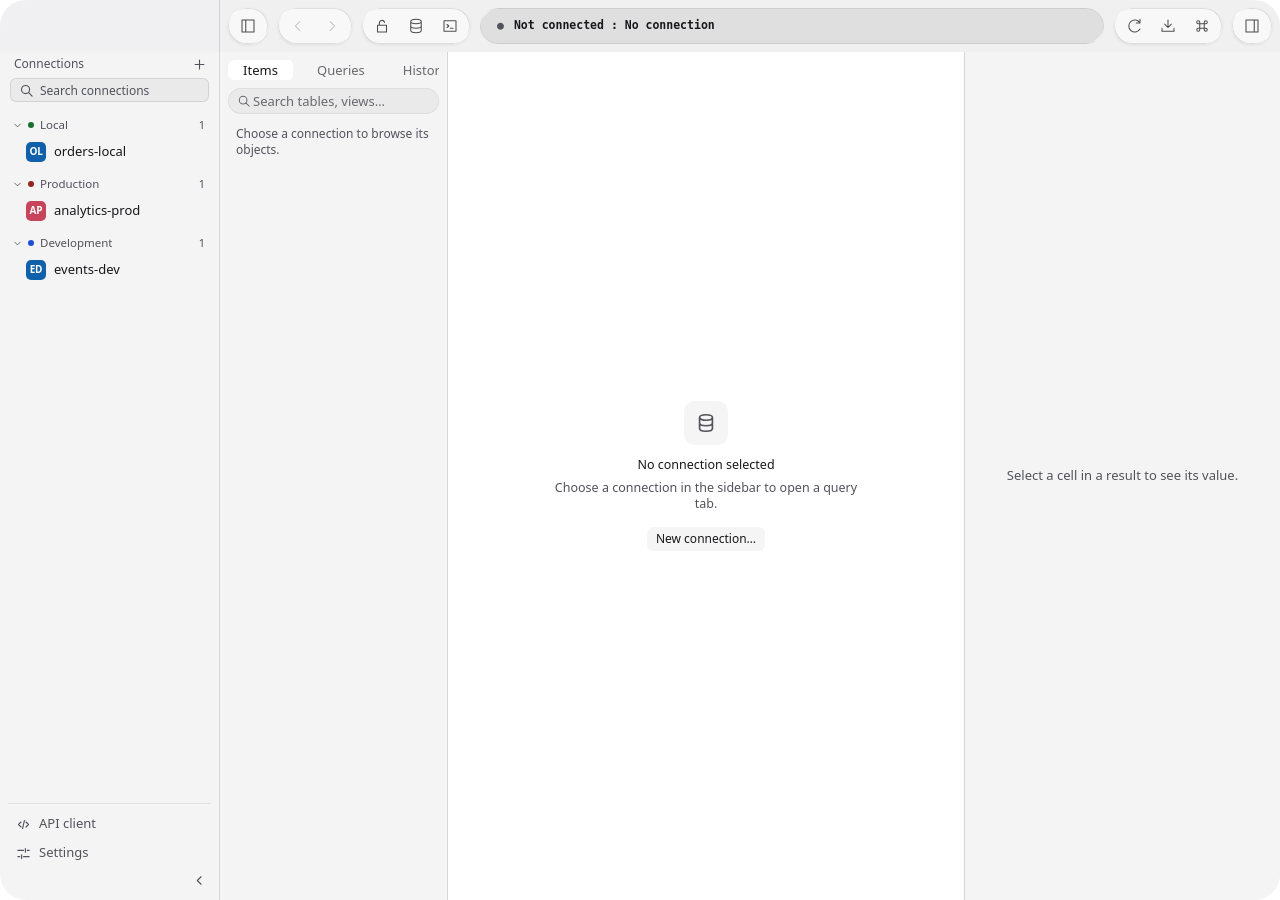
Scenario: moves focus to the table row when its chevron collapses a focused column
Click the button with aria-label "Switch to orders-local": coordinates (118, 152) [26, 138, 211, 166]
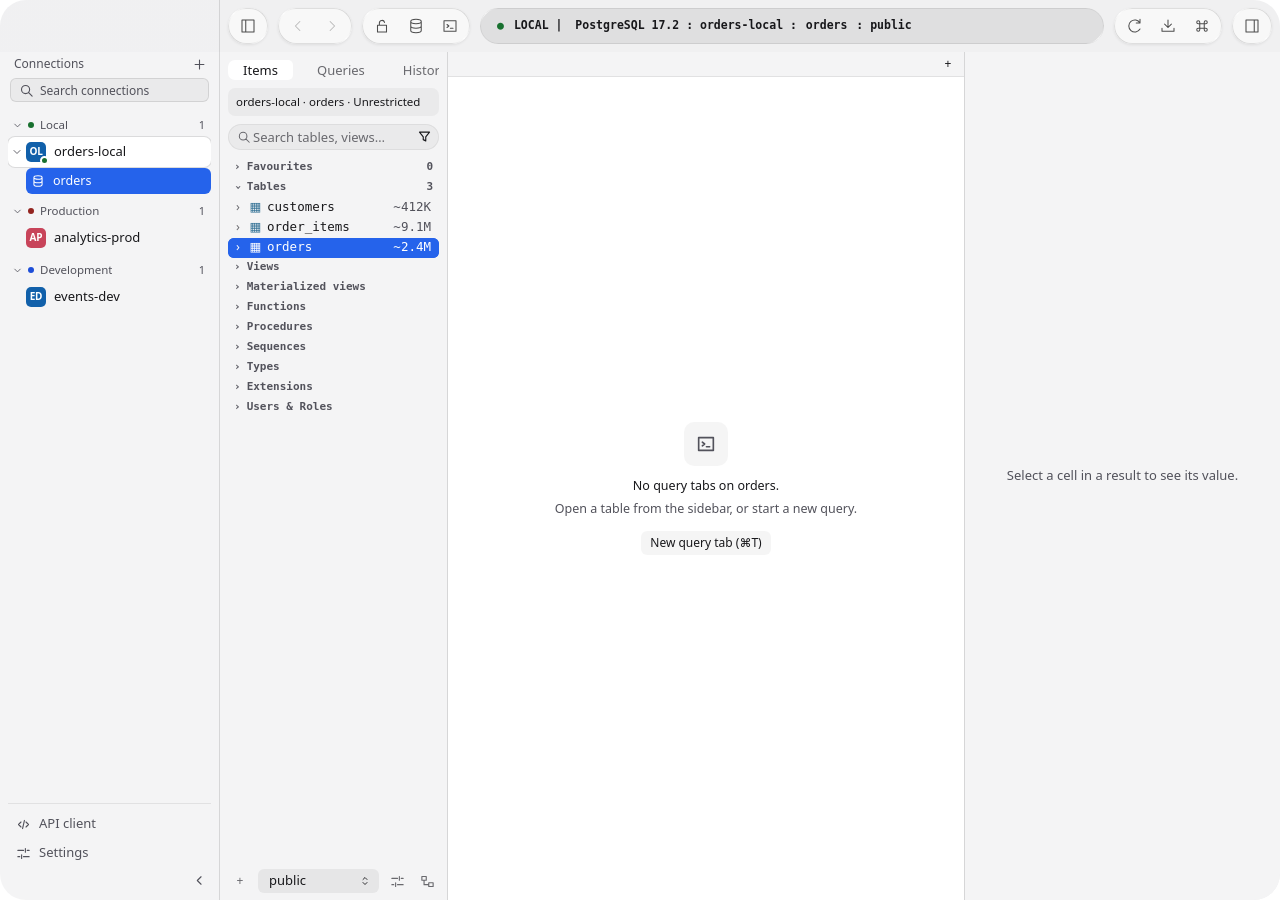
Expected: the button with aria-label "Database orders" is shown, [26, 168, 211, 194]
Expected: the button "› Tables 3" is shown, [228, 178, 439, 198]
Press Arrowright
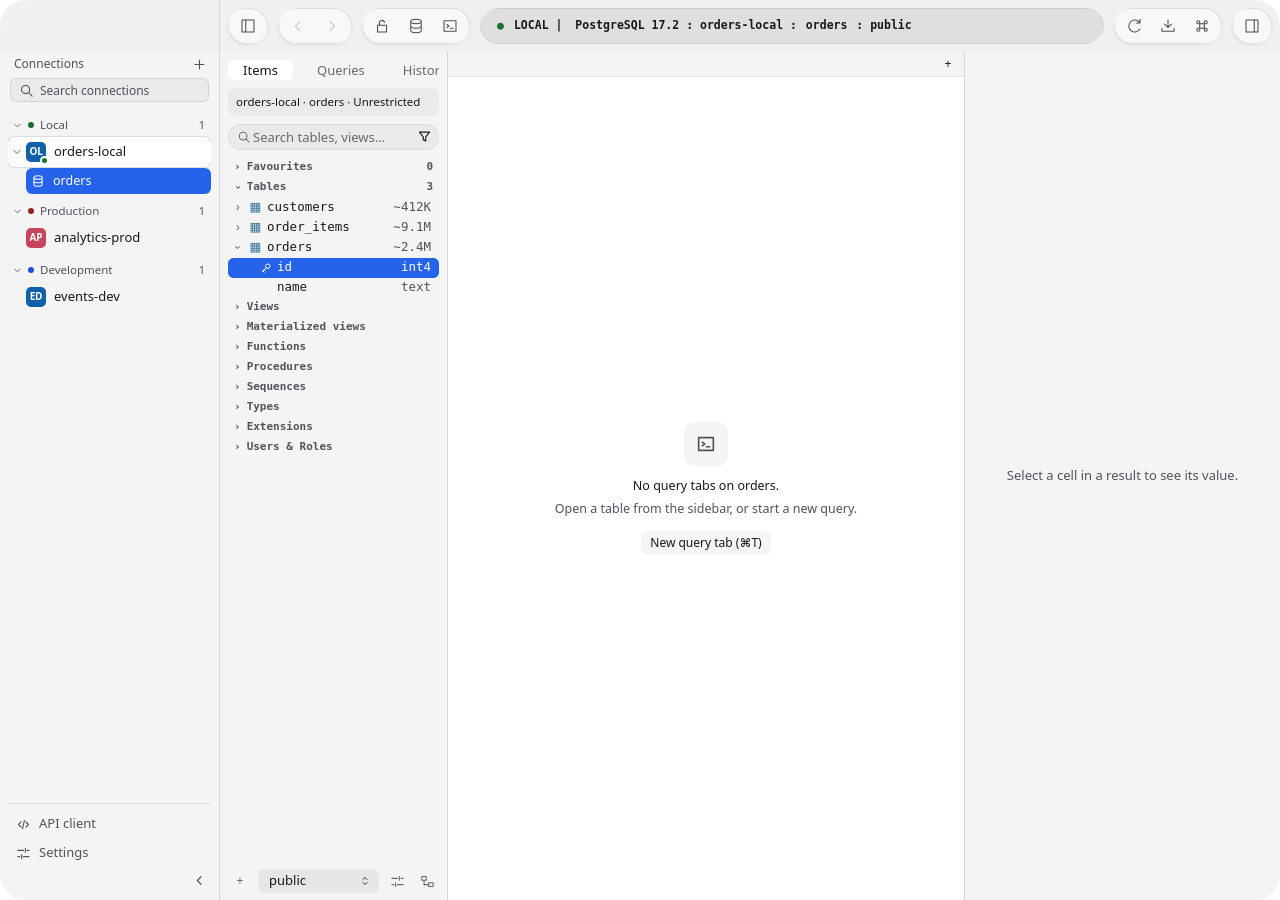
Click the text "›" in the row of "~2.4M": coordinates (239, 248) [230, 246, 247, 250]
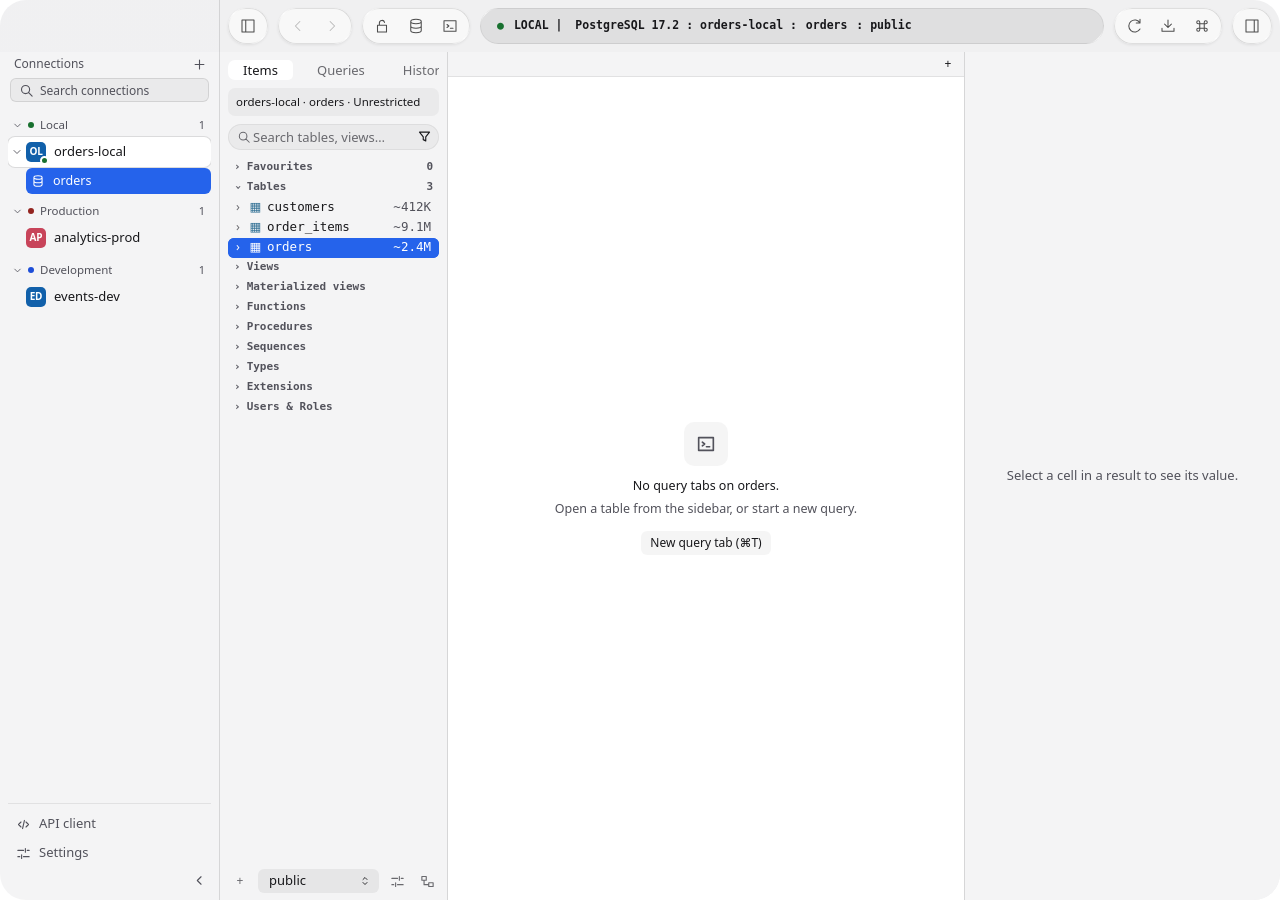
Expected: the list item "orders ~2.4M" is collapsed, [228, 238, 439, 258]
